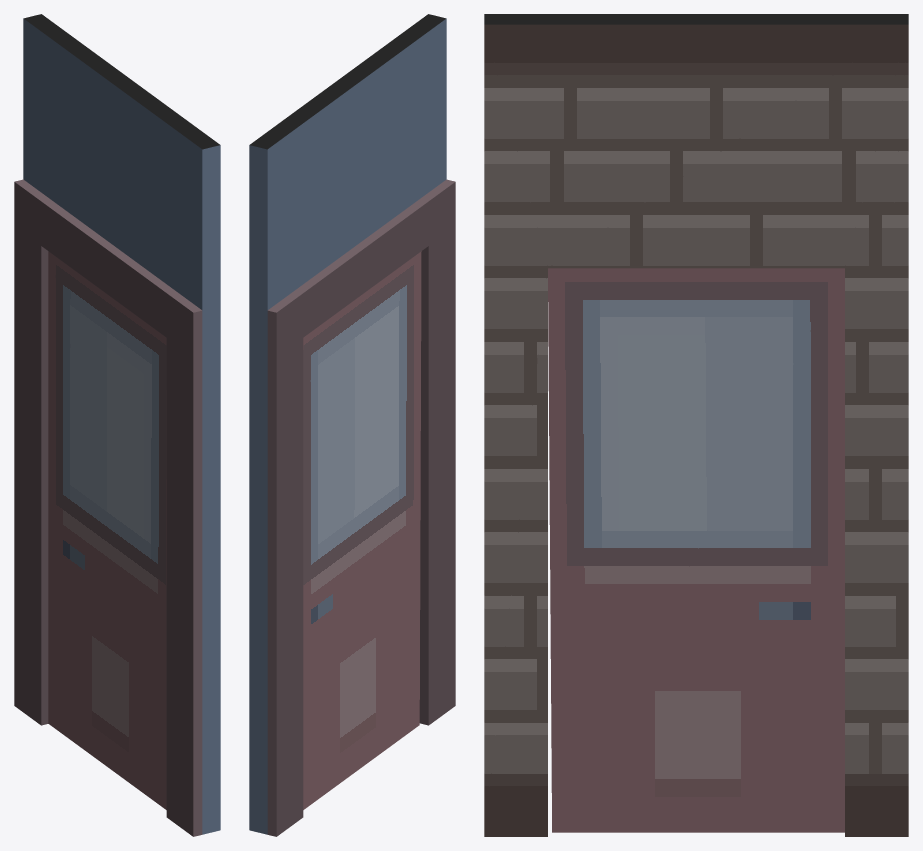
The model's file is mesh_door.glb.
3 views of the same model, side by side, from view 1: azimuth 30°, elevation 25°; view 2: azimuth 150°, elevation 25°; view 3: azimuth 270°, elevation 25° (orthographic). The views are drawn at different scales.
Parts seen in each view (by area): view 1: mesh_wall_door_mat_wall_inside_1_0, mesh_door_mat_door_0; view 2: mesh_wall_door_mat_wall_inside_1_0, mesh_door_mat_door_0; view 3: mesh_wall_door_mat_wall_side_b_0, mesh_door_mat_door_0, mesh_wall_door_mat_wall_inside_1_0.
Part boxes in pixels (left/top/right/bottom): mesh_wall_door_mat_wall_inside_1_0: left=14, top=14, right=220, bottom=836; mesh_door_mat_door_0: left=48, top=251, right=166, bottom=809; mesh_wall_door_mat_wall_inside_1_0: left=249, top=14, right=455, bottom=836; mesh_door_mat_door_0: left=303, top=251, right=421, bottom=809; mesh_wall_door_mat_wall_side_b_0: left=484, top=24, right=908, bottom=836; mesh_door_mat_door_0: left=548, top=268, right=844, bottom=832; mesh_wall_door_mat_wall_inside_1_0: left=484, top=14, right=908, bottom=24.
Size of the model in its own units: 0.1441 by 3.46 by 1.64.
3 materials, 3 textured.
